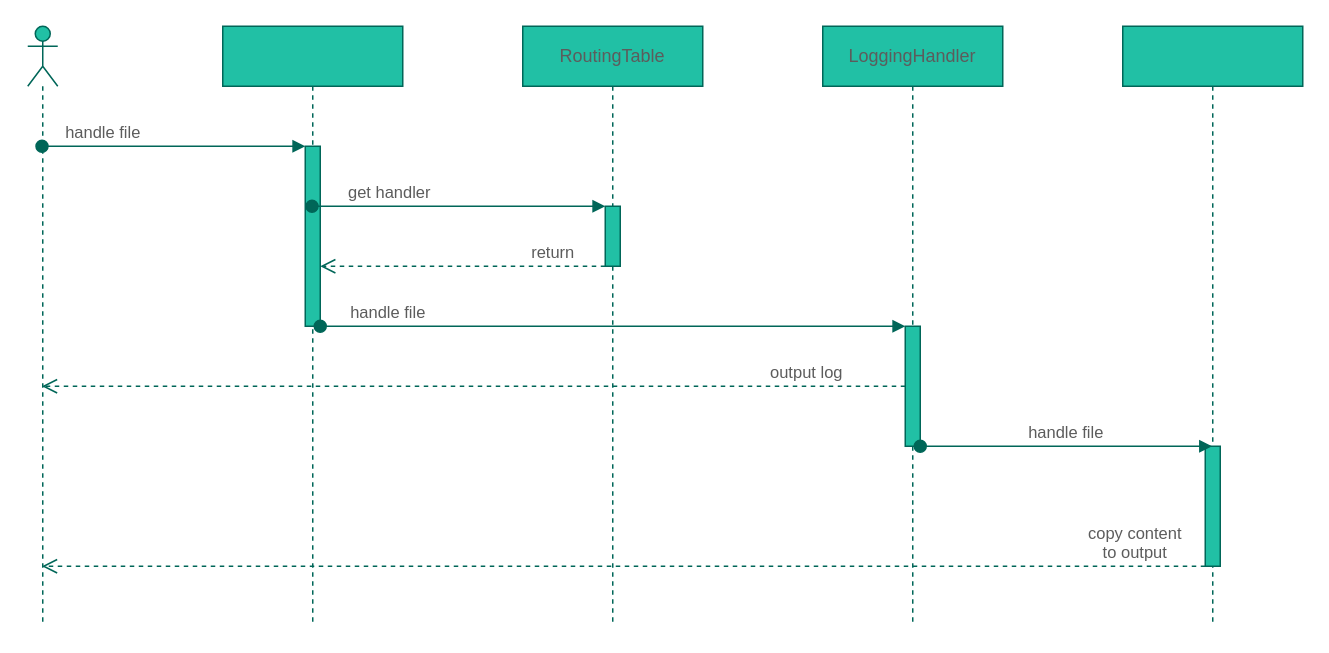
The diagram is 1329 pixels wide and 653 high, and some of its shapes have lost their labels. The shapes that lost their labels are listed below. From the top down, each one's box as (x1, y1, x2, y2) in pixels, then its label:
(221, 25, 403, 626): RoutingHandler
(1121, 25, 1303, 626): BaseFileHandler
